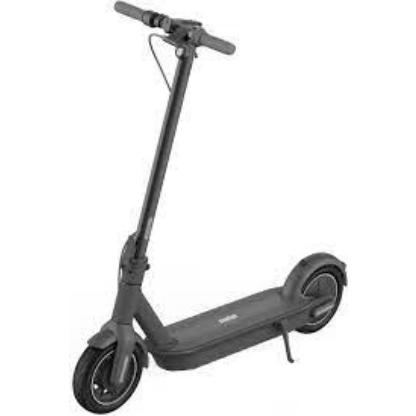bike: (70, 3, 351, 416)
